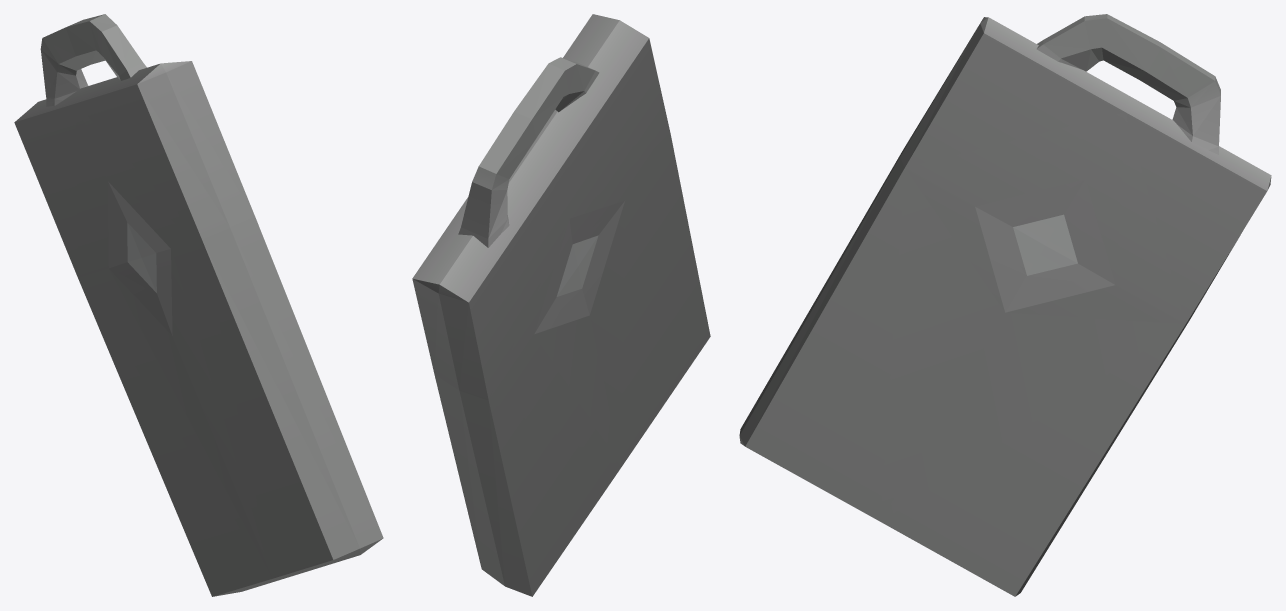
File: CharSkyNPC_Prop_Clipboard.glb
3 views of the same model, side by side, from view 1: azimuth 30°, elevation 25°; view 2: azimuth 150°, elevation 25°; view 3: azimuth 270°, elevation 25° (orthographic). The views are drawn at different scales.
Visible parts, largest first — view 1: CharSkyNPC_Prop_Clipboard; view 2: CharSkyNPC_Prop_Clipboard; view 3: CharSkyNPC_Prop_Clipboard.
Boxes of the visible parts, x1,y1,x2,y2 form: CharSkyNPC_Prop_Clipboard: (14, 14, 383, 596); CharSkyNPC_Prop_Clipboard: (412, 14, 710, 596); CharSkyNPC_Prop_Clipboard: (739, 14, 1271, 596).
Size of the model in its own units: 0.9015 by 3.34 by 2.99.
Materials: 1 (1 with a texture image).
